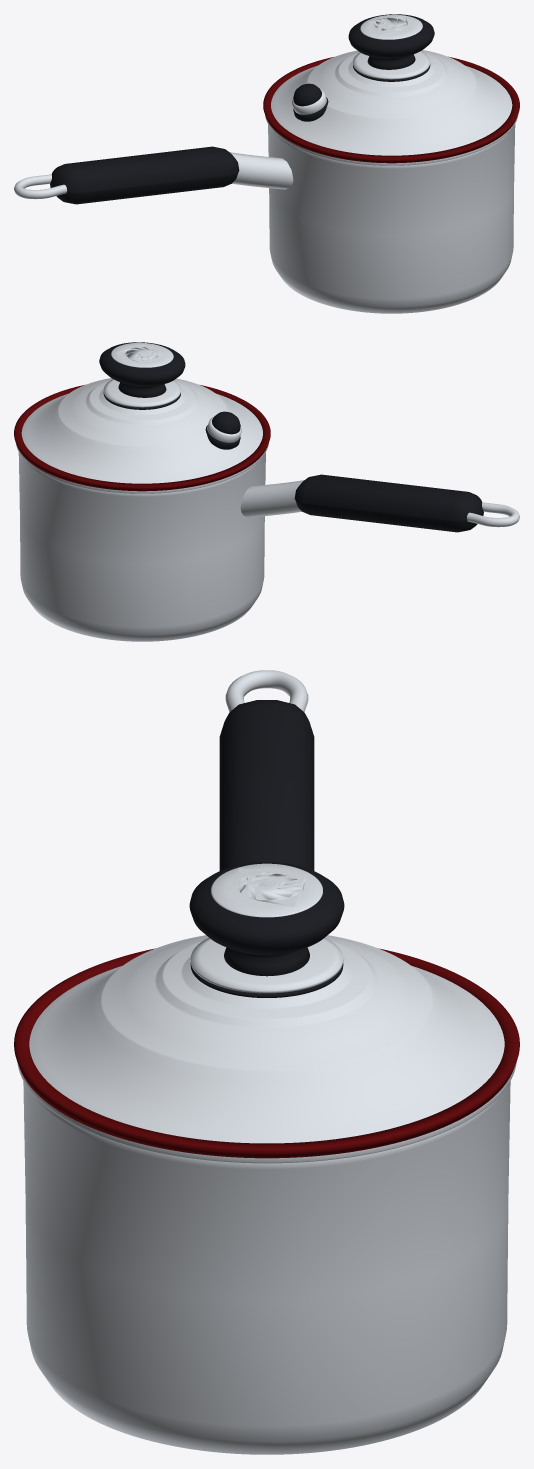
Rendered from olla-2-cuartos.glb.
3 views of the same model, one above another, from view 1: azimuth 30°, elevation 25°; view 2: azimuth 150°, elevation 25°; view 3: azimuth 270°, elevation 25° (orthographic). The views are drawn at different scales.
Visible parts, largest first — view 1: Cuerpo con interior, Tapa de acero con aros, Mango largo negro, Aro rojo de la tapa, NOVEL · Pomo cerrado redondeado, Cuello de mango, NOVEL · Base cromada del pomo, Argolla metálica del mango, NOVEL · Placa superior del pomo, NOVEL · Emblema original en relieve bajo, NOVEL · Válvula capuchón negro, NOVEL · Válvula banda cromada; view 2: Cuerpo con interior, Tapa de acero con aros, Mango largo negro, Aro rojo de la tapa, NOVEL · Pomo cerrado redondeado, Cuello de mango, NOVEL · Base cromada del pomo, Argolla metálica del mango, NOVEL · Placa superior del pomo, NOVEL · Emblema original en relieve bajo, NOVEL · Válvula capuchón negro, NOVEL · Válvula banda cromada; view 3: Cuerpo con interior, Tapa de acero con aros, Mango largo negro, Aro rojo de la tapa, NOVEL · Pomo cerrado redondeado, NOVEL · Base cromada del pomo, NOVEL · Placa superior del pomo, NOVEL · Emblema original en relieve bajo, Argolla metálica del mango.
Boxes of the visible parts, x1,y1,x2,y2 form: Cuerpo con interior: [268, 124, 515, 313]; Tapa de acero con aros: [265, 50, 518, 165]; Mango largo negro: [50, 146, 239, 204]; Aro rojo de la tapa: [263, 56, 519, 163]; NOVEL · Pomo cerrado redondeado: [348, 14, 434, 69]; Cuello de mango: [230, 152, 293, 189]; NOVEL · Base cromada del pomo: [353, 51, 430, 79]; Argolla metálica del mango: [14, 174, 67, 199]; NOVEL · Placa superior del pomo: [360, 14, 422, 39]; NOVEL · Emblema original en relieve bajo: [368, 15, 410, 36]; NOVEL · Válvula capuchón negro: [293, 83, 321, 106]; NOVEL · Válvula banda cromada: [292, 89, 326, 114]; Cuerpo con interior: [18, 452, 265, 641]; Tapa de acero con aros: [15, 378, 268, 493]; Mango largo negro: [294, 474, 483, 532]; Aro rojo de la tapa: [14, 384, 270, 491]; NOVEL · Pomo cerrado redondeado: [99, 342, 185, 397]; Cuello de mango: [240, 480, 303, 517]; NOVEL · Base cromada del pomo: [103, 379, 180, 407]; Argolla metálica del mango: [466, 502, 519, 527]; NOVEL · Placa superior del pomo: [111, 342, 173, 367]; NOVEL · Emblema original en relieve bajo: [115, 344, 169, 363]; NOVEL · Válvula capuchón negro: [212, 411, 240, 434]; NOVEL · Válvula banda cromada: [207, 417, 241, 442]; Cuerpo con interior: [23, 1081, 510, 1454]; Tapa de acero con aros: [17, 935, 516, 1163]; Mango largo negro: [219, 700, 314, 870]; Aro rojo de la tapa: [14, 948, 519, 1158]; NOVEL · Pomo cerrado redondeado: [189, 862, 344, 976]; NOVEL · Base cromada del pomo: [190, 937, 343, 993]; NOVEL · Placa superior del pomo: [211, 863, 322, 917]; NOVEL · Emblema original en relieve bajo: [227, 868, 306, 906]; Argolla metálica del mango: [225, 670, 308, 712].
Bounding box in the file's own units: 0.363 × 0.1732 × 0.166.
